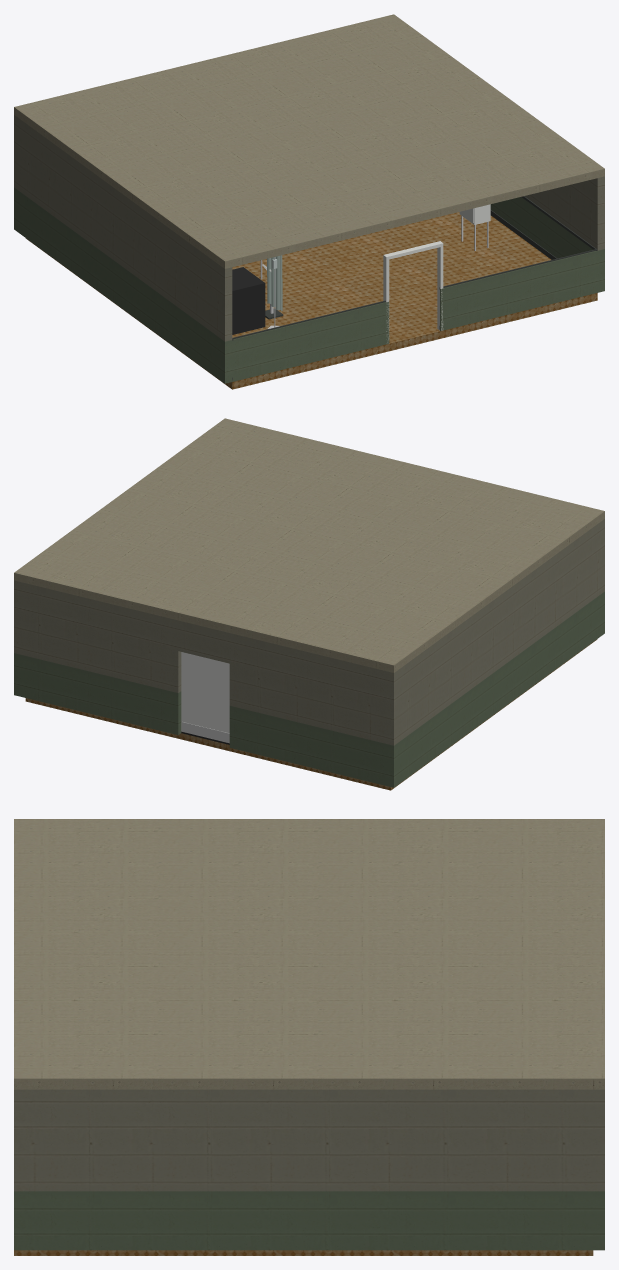
File: infirmary.glb
3 renders of one model, top to bottom at view 1: azimuth 30°, elevation 25°; view 2: azimuth 150°, elevation 25°; view 3: azimuth 270°, elevation 25°, orthographic. The views are drawn at different scales.
Visible parts, largest first — view 1: INF_static, BLOCK_bed0; view 2: INF_static, DOOR_infExit; view 3: INF_static.
Part boxes in pixels (x1=…): INF_static: x1=14, y1=14, x2=604, y2=389; BLOCK_bed0: x1=232, y1=267, x2=265, y2=334; INF_static: x1=14, y1=418, x2=604, y2=790; DOOR_infExit: x1=181, y1=652, x2=229, y2=744; INF_static: x1=14, y1=819, x2=604, y2=1255.
Bounding box in the file's own units: 10.4 × 3.4 × 10.
Materials: 18 (5 with a texture image).
